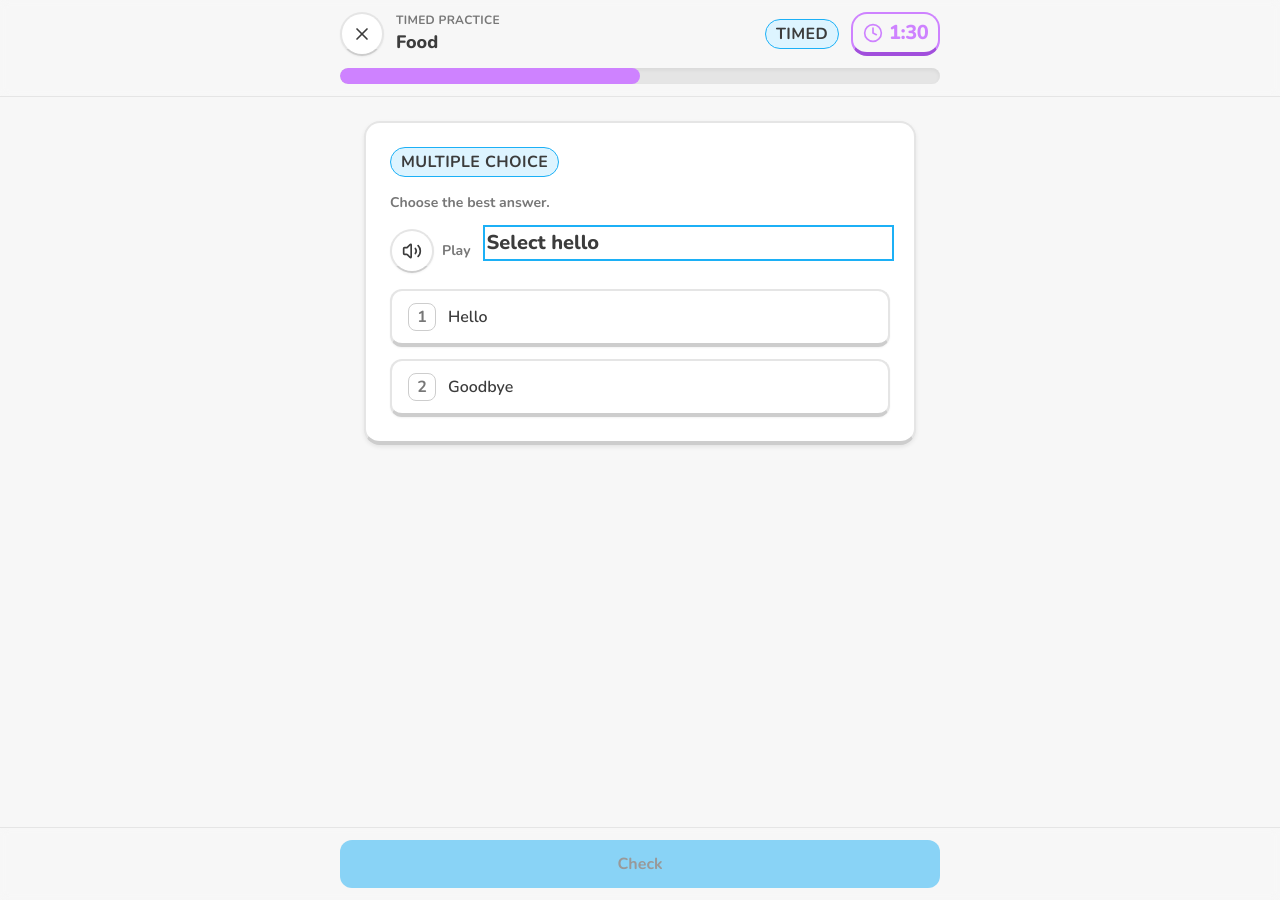
Phase 10E Timed Practice UI › wrong timed answer keeps hearts unchanged in feedback
Click the radio button labelled "Hello": coordinates (468, 317) left=390, top=289, right=890, bottom=347
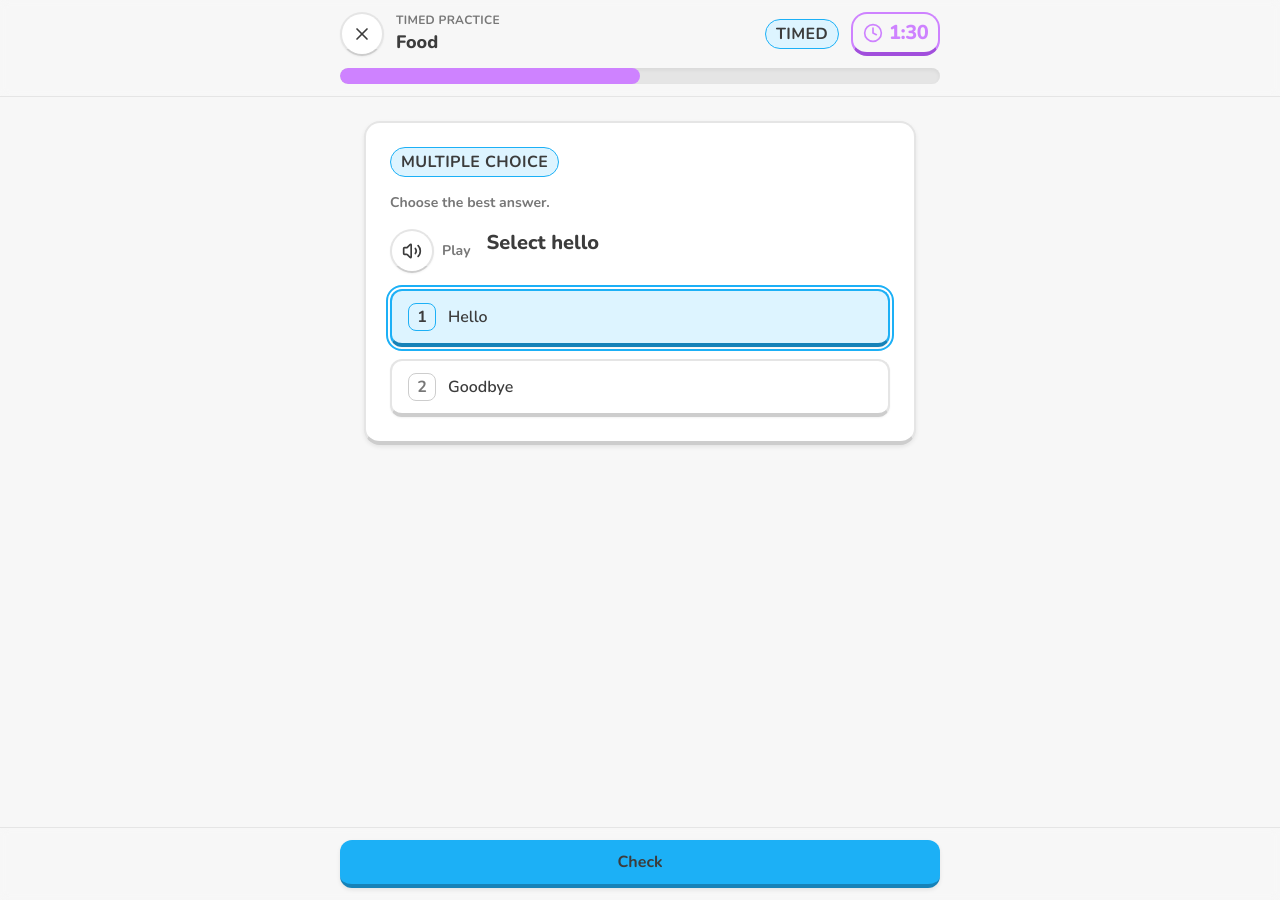
Click the button "Check": coordinates (640, 864) left=340, top=840, right=940, bottom=888
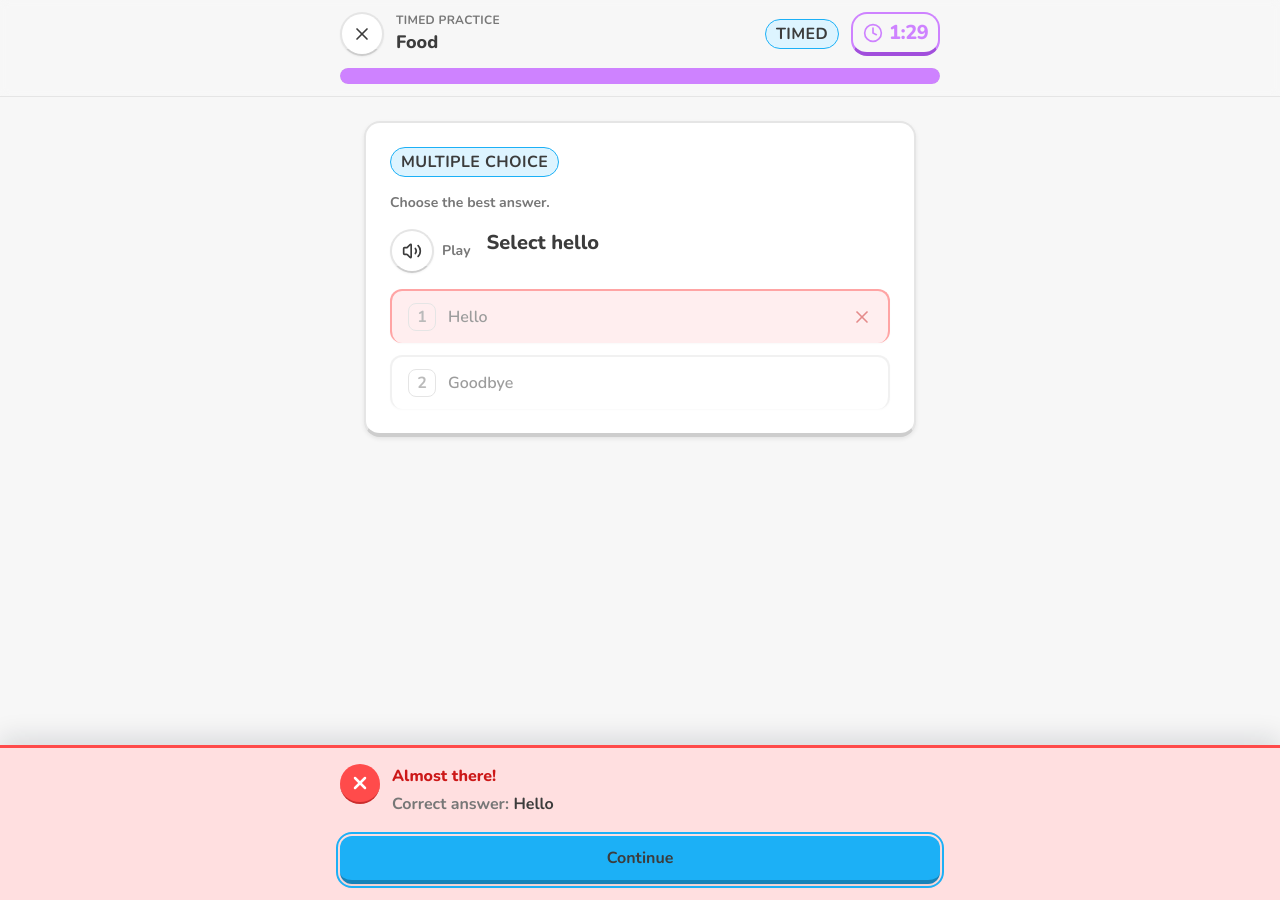
Check: the button "Continue" is shown, box left=340, top=836, right=940, bottom=884
